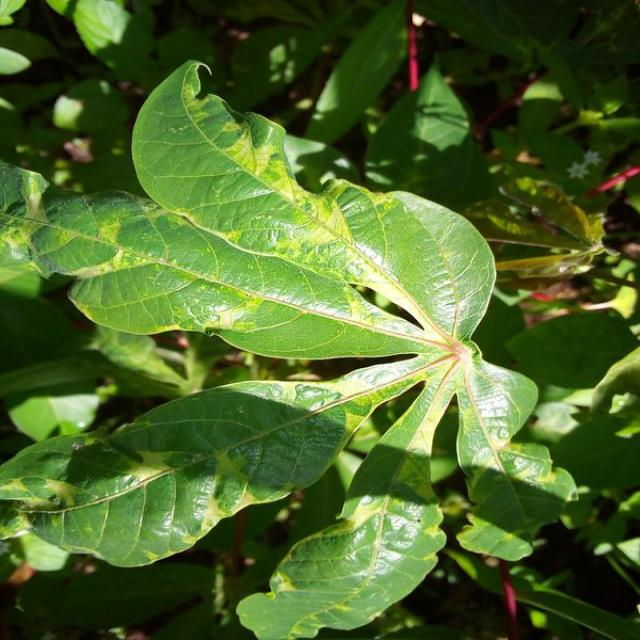Mosaico: (76, 52, 522, 587)
